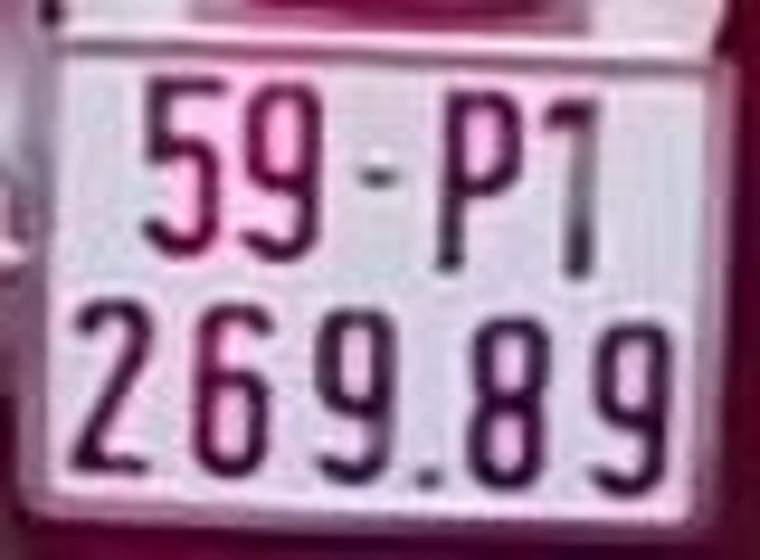-: (352, 157, 406, 205)
.: (411, 457, 450, 495)
1: (534, 87, 614, 292)
2: (63, 288, 162, 478)
5: (140, 64, 231, 269)
6: (183, 291, 282, 483)
8: (460, 309, 558, 494)
9: (587, 307, 680, 506), (241, 71, 331, 268), (312, 300, 404, 489)
P: (440, 76, 528, 282)
